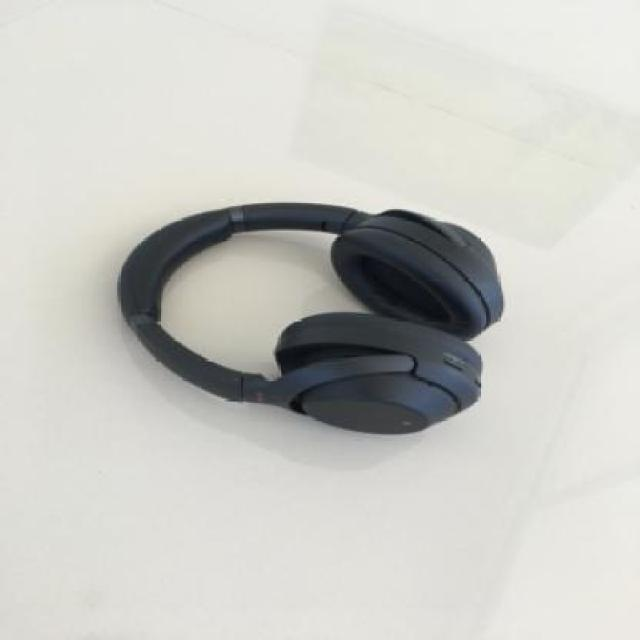earphone: (93, 98, 542, 467)
